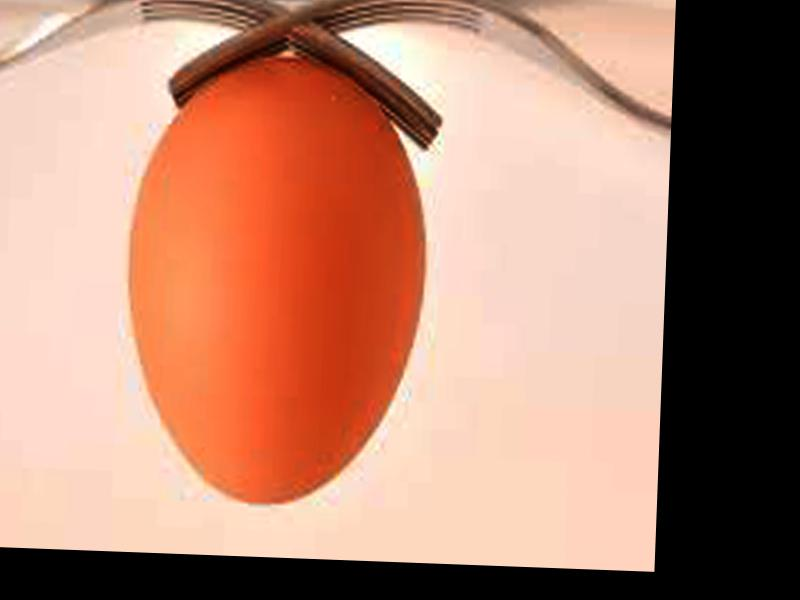Eggs: (120, 52, 431, 508)
